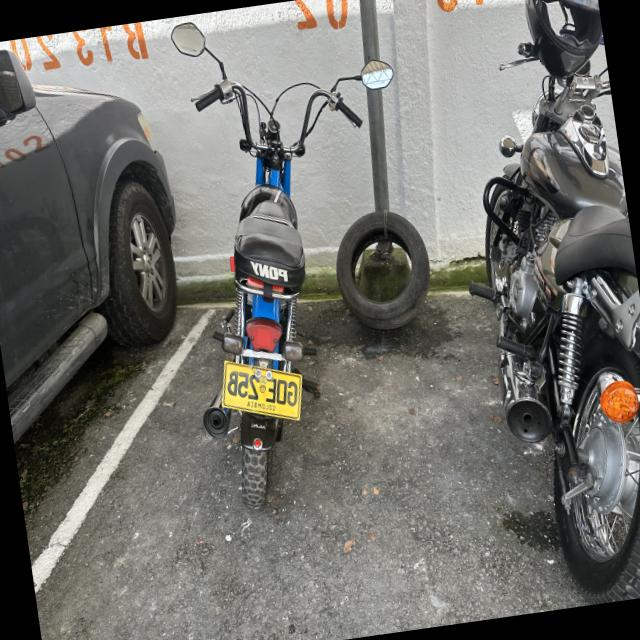number plate: (223, 361, 302, 420)
